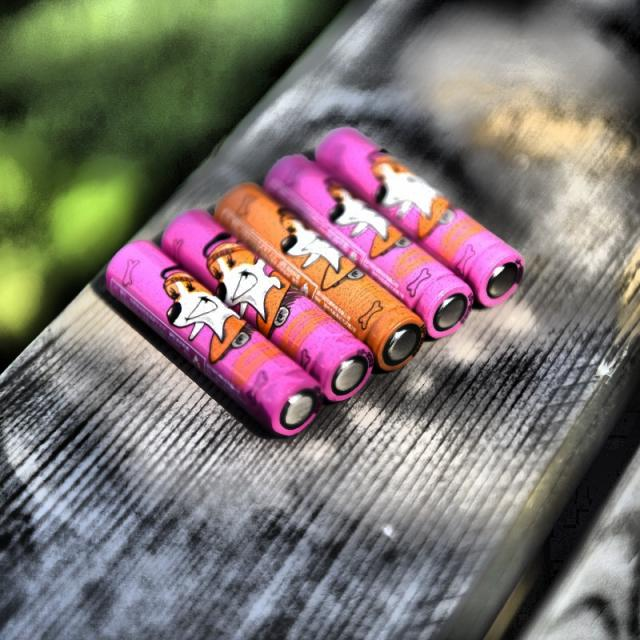Non-Valuable Waste - Batteries: (106, 241, 322, 436), (162, 210, 374, 402), (216, 184, 425, 371), (264, 155, 474, 338), (316, 129, 524, 306)
